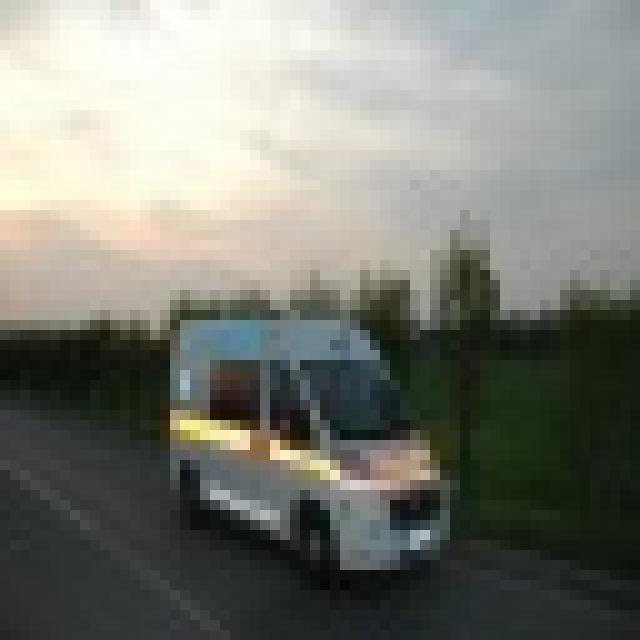Ambulance: (160, 310, 450, 580)
